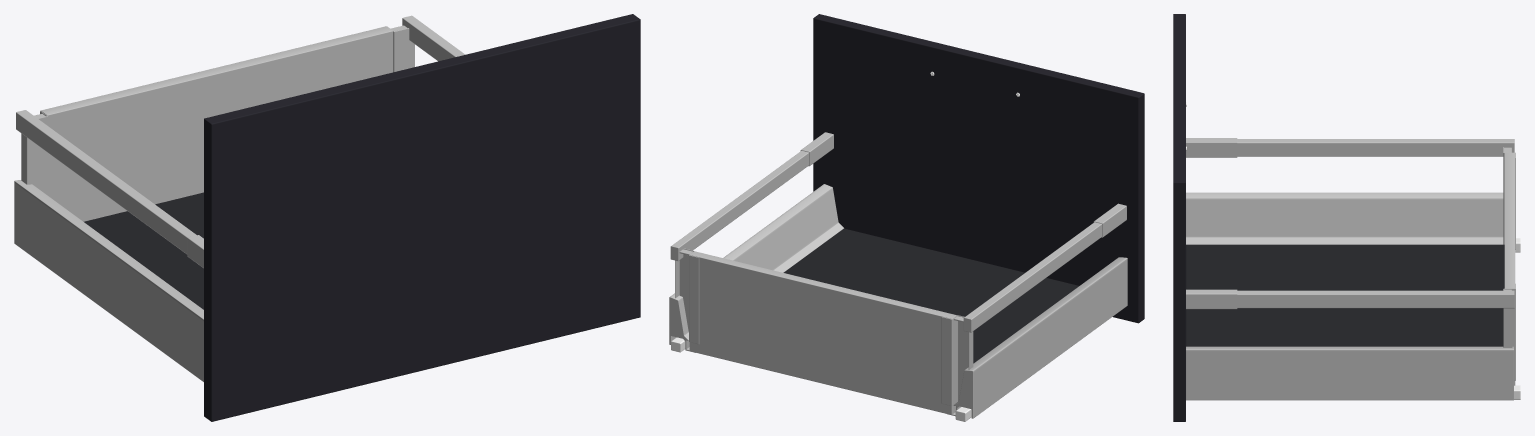
The model's file is Kitchen05Drawer03.obj.
3 views of the same model, side by side, from view 1: azimuth 30°, elevation 25°; view 2: azimuth 150°, elevation 25°; view 3: azimuth 270°, elevation 25° (orthographic). The views are drawn at different scales.
Parts seen in each view (by area): view 1: SM_Kitchen_05_Base_Drawer_03_35; view 2: SM_Kitchen_05_Base_Drawer_03_35; view 3: SM_Kitchen_05_Base_Drawer_03_35.
Part boxes in pixels (x1,y1,x2,y2): SM_Kitchen_05_Base_Drawer_03_35: (14,14,640,421); SM_Kitchen_05_Base_Drawer_03_35: (669,14,1144,421); SM_Kitchen_05_Base_Drawer_03_35: (1173,14,1520,421).
Bounding box in the file's own units: 59.69 × 39.6 × 51.99.
